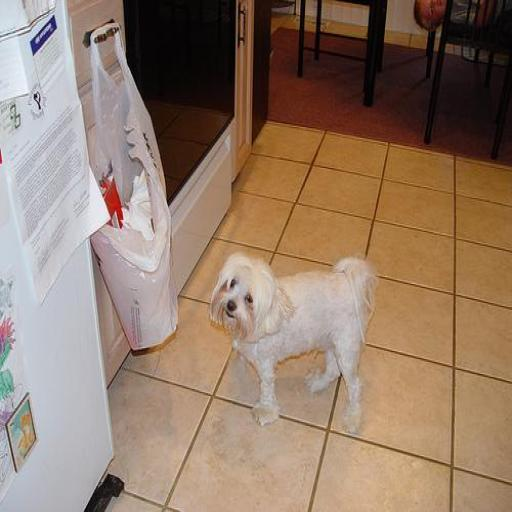dog_face: (209, 251, 276, 336)
